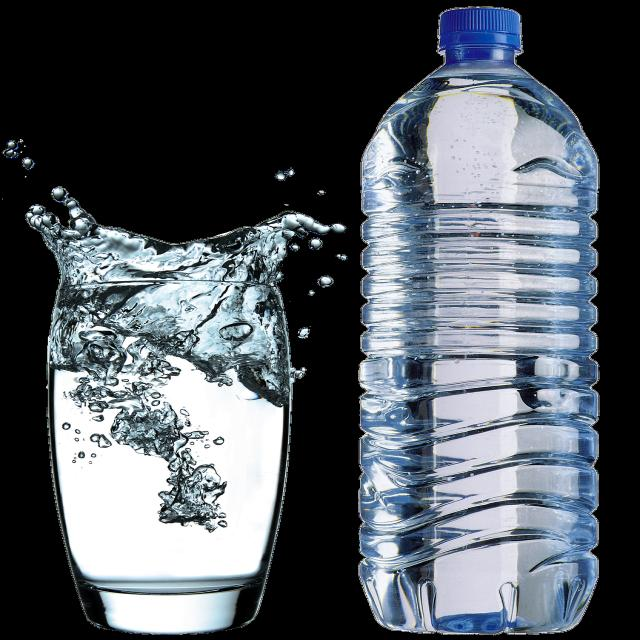bottle: (348, 0, 640, 640)
